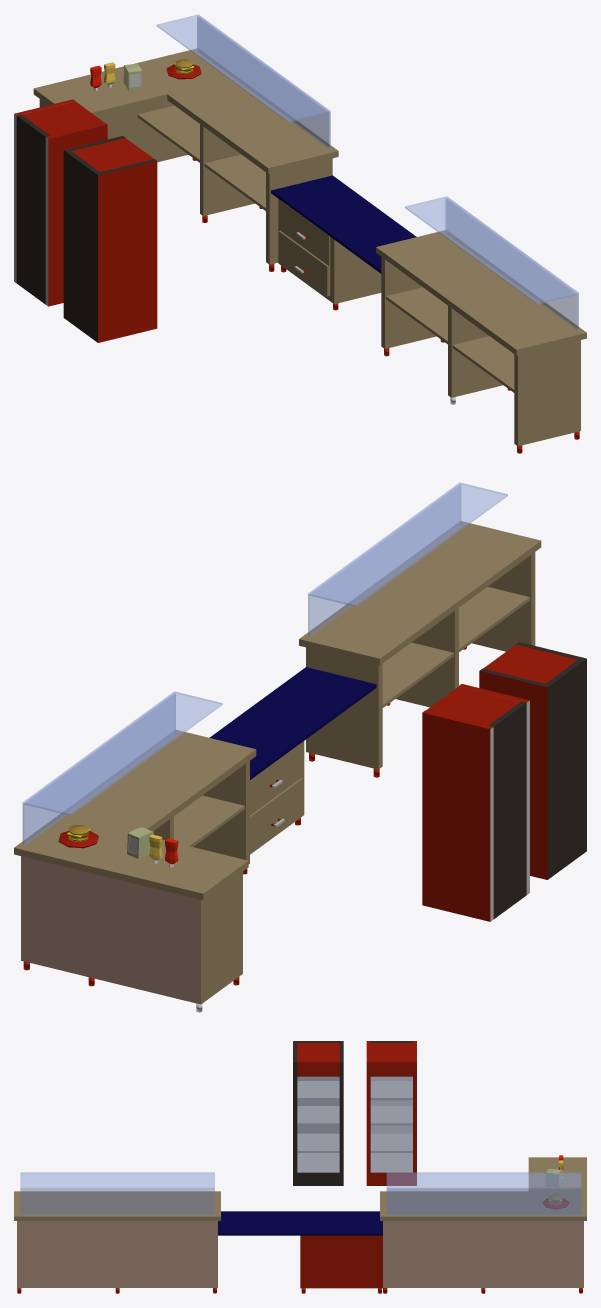
Rendered from kantin.fbx.
3 renders of one model, top to bottom at view 1: azimuth 30°, elevation 25°; view 2: azimuth 150°, elevation 25°; view 3: azimuth 270°, elevation 25°, orthographic. The views are drawn at different scales.
Visible parts, largest first — view 1: Cube.034; view 2: Cube.034; view 3: Cube.034.
Boxes of the visible parts, bbox=[...] form: Cube.034: bbox=[14, 14, 586, 453]; Cube.034: bbox=[14, 482, 586, 1012]; Cube.034: bbox=[14, 1041, 586, 1293].
Size of the model in its own units: 374 by 237 by 840.
